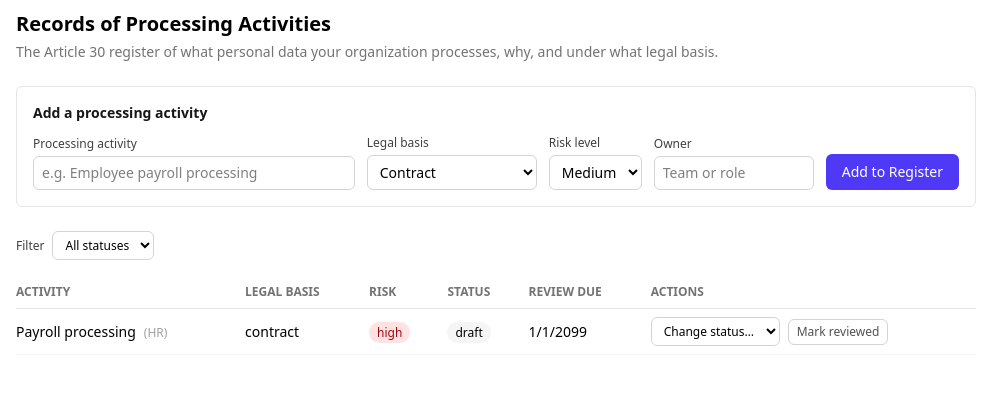
it: RopaRegisterPage › shows an error message when a transition is rejected
This screenshot has width=993, height=399.
Expected: the text "Payroll processing" is shown, [16,322,136,340]
Select "Archived" in the dropdown named "Change status for Payroll processing" at (715, 332), box [651,317,780,346]
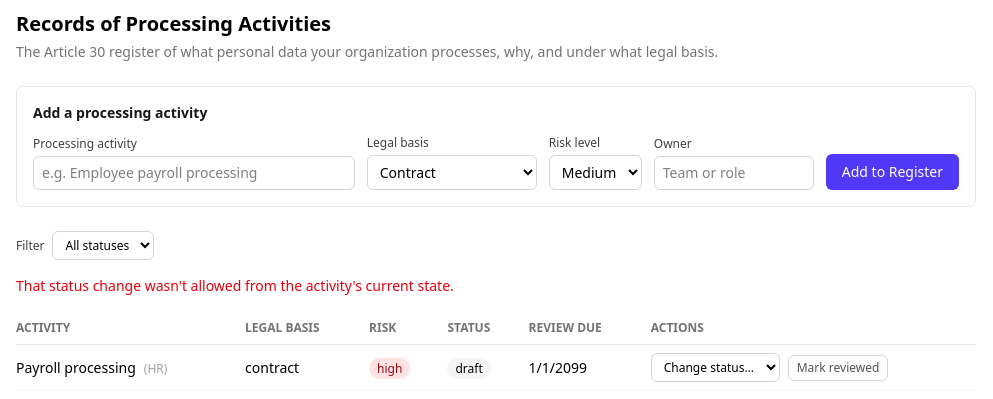
Expected: the text "That status change wasn't allowed from the activity's current state." is shown, [16,276,454,295]
